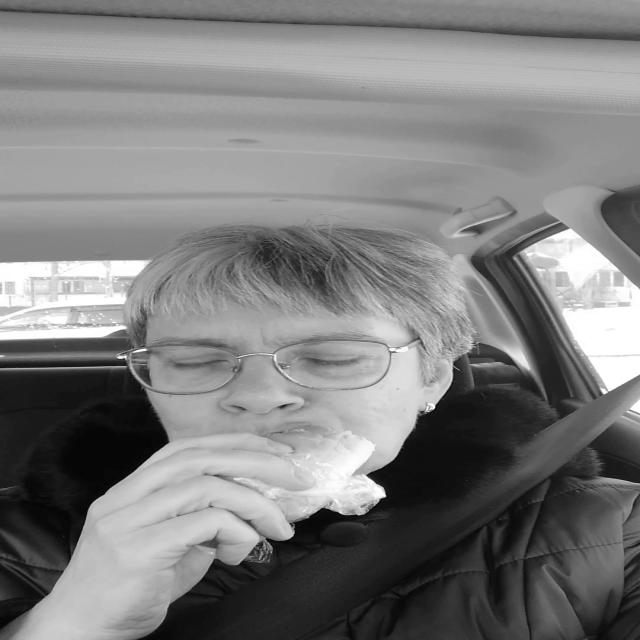Eating: (161, 409, 406, 570)
Seatbelt: (192, 367, 640, 632)
